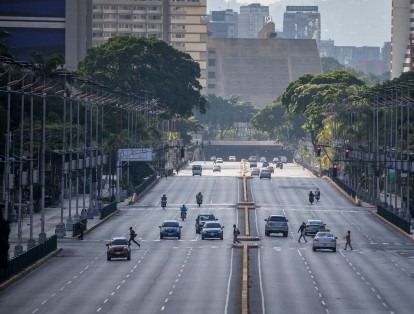car: (64, 160, 383, 263), (76, 166, 283, 243), (104, 237, 136, 261), (308, 228, 339, 252), (263, 214, 291, 238), (197, 214, 222, 239)
